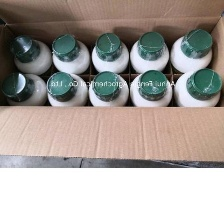book: (0, 0, 224, 163)
insecticide: (163, 24, 217, 83), (168, 65, 224, 121), (0, 67, 53, 115), (6, 31, 59, 79), (89, 30, 132, 86), (126, 67, 175, 115), (126, 27, 172, 75), (84, 70, 131, 116), (50, 29, 92, 75), (46, 71, 91, 111)
